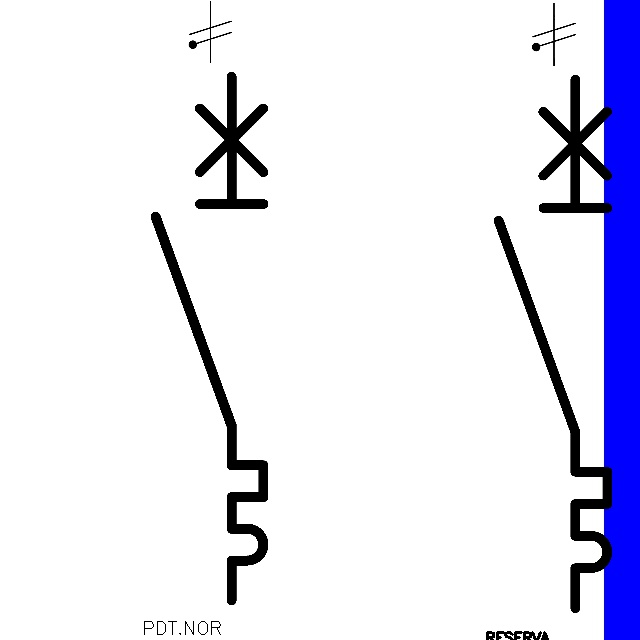interruptor_termomagnetico: (485, 65, 621, 621), (142, 63, 277, 614)
